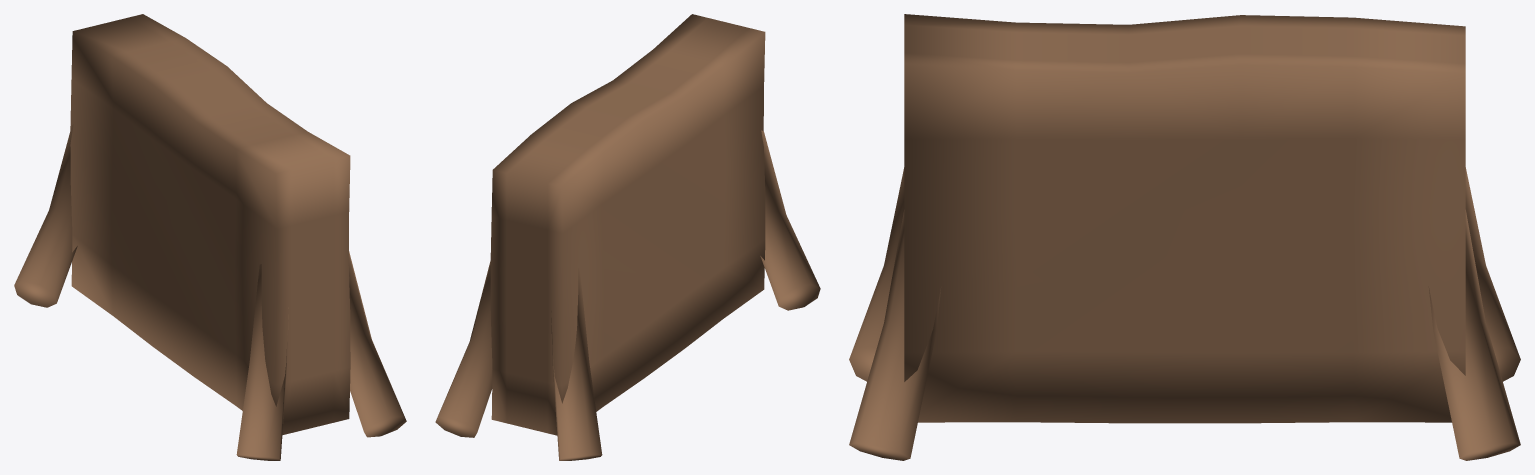
The model's file is twisted_root_wall.glb.
3 renders of one model, left to right at view 1: azimuth 30°, elevation 25°; view 2: azimuth 150°, elevation 25°; view 3: azimuth 270°, elevation 25°, orthographic. The views are drawn at different scales.
Parts seen in each view (by area): view 1: SM_Forest_TwistedRootWall; view 2: SM_Forest_TwistedRootWall; view 3: SM_Forest_TwistedRootWall.
Part boxes in pixels (bbox=[...]): SM_Forest_TwistedRootWall: bbox=[14, 14, 406, 460]; SM_Forest_TwistedRootWall: bbox=[435, 14, 820, 460]; SM_Forest_TwistedRootWall: bbox=[849, 14, 1520, 460].
Bounding box in the file's own units: 2.14 × 3.44 × 5.5.
